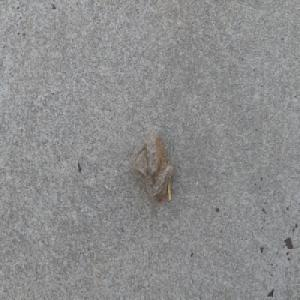Rock: (129, 128, 173, 205)
